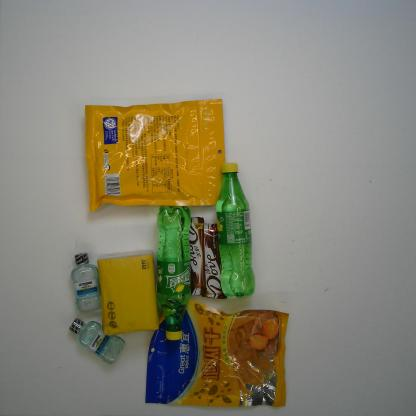Chocolate: (178, 216, 206, 296), (204, 222, 228, 302)
Dried Fruit: (83, 96, 227, 213), (143, 299, 289, 409)
Drink: (214, 162, 256, 300), (155, 204, 193, 342)
Personal Hygiene: (68, 317, 126, 364), (70, 252, 102, 312)
Tissue: (96, 249, 160, 337)
